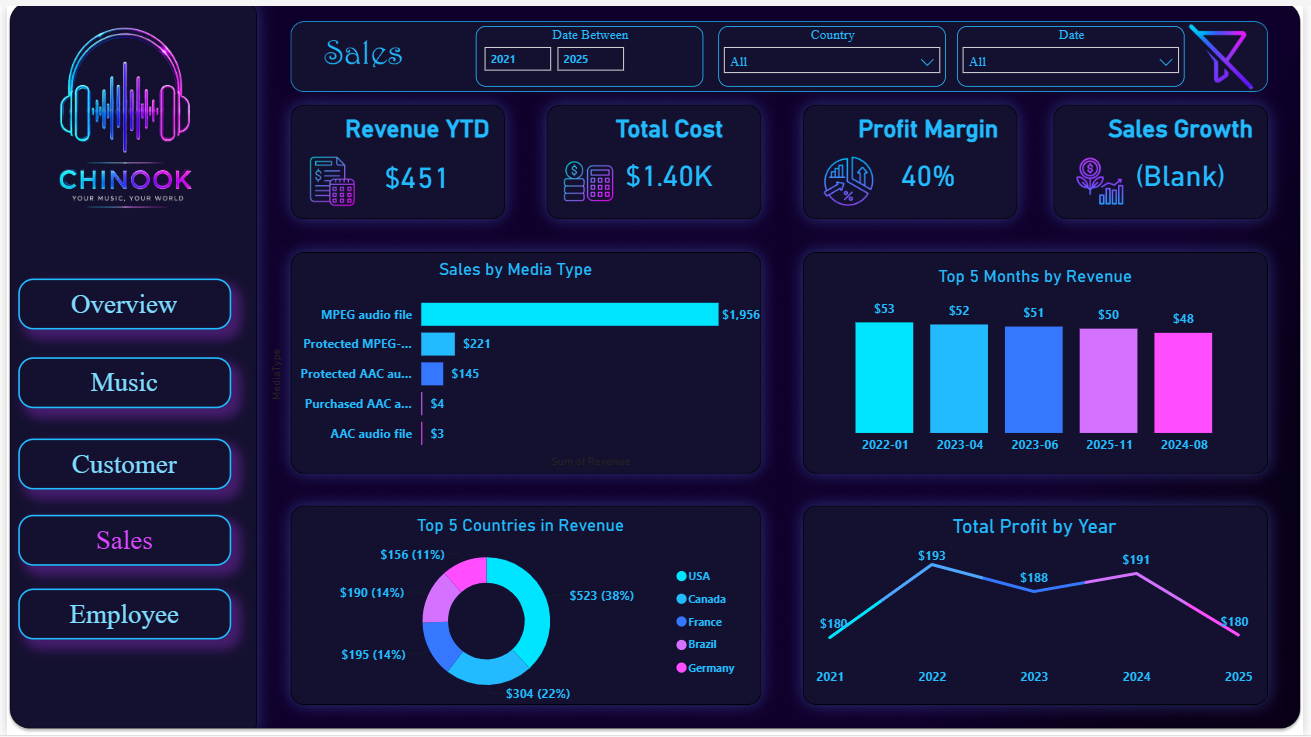

The page's visual inventory and layout, read from the dashboard file:
{"tool":"powerbi","page":{"name":"Sales","canvas":[1280,720],"ordinal":3},"visuals":[{"type":"image","box":[0,0,234.6,227.8],"z":0},{"type":"card","title":"Revenue YTD","fields":{"Values":["Dax.Sales YTD"]},"box":[321.3,107.1,168.3,94.4],"z":1000},{"type":"card","title":"Total Cost","fields":{"Values":["Dax.Total Cost"]},"box":[575.5,107.4,158,90.5],"z":2000},{"type":"card","title":"Profit Margin ","fields":{"Values":["Dax.Profit Margin %"]},"box":[831.4,107.1,158.1,90.5],"z":3000},{"type":"card","title":"Sales Growth","fields":{"Values":["Dax.Sales Growth %"]},"box":[1079.9,107,157.8,90.6],"z":4000},{"type":"image","box":[292.3,148.2,57.6,49.4],"z":5000},{"type":"image","box":[546.1,148.2,57.6,49.4],"z":6000},{"type":"image","box":[802.7,148.2,57.6,49.4],"z":7000},{"type":"image","box":[1051.1,148.2,57.6,49.4],"z":8000},{"type":"donutChart","title":"Top 5 Countries in Revenue","fields":{"Category":["Revenue Rank by Country.BillingCountry"],"Y":["Sum(Revenue Rank by Country.Revenue)"]},"box":[281.8,502.4,451.4,191.3],"z":9000},{"type":"columnChart","title":"Top 5 Months by Revenue","fields":{"Category":["Top 5 Months by Revenue.SalesMonth"],"Y":["Sum(Top 5 Months by Revenue.Revenue)"]},"box":[803.3,256.3,423.4,195.1],"z":10000},{"type":"clusteredBarChart","title":"Sales by Media Type","fields":{"Category":["Sales by Media Type.MediaType"],"Y":["Sum(Sales by Media Type.Revenue)"]},"box":[255,249.9,493.5,211.7],"z":11000},{"type":"actionButton","title":" Overview","box":[11,269,210,50],"z":12000},{"type":"actionButton","title":"Music","box":[11,347.2,210,50],"z":13000},{"type":"actionButton","title":"Customer","box":[11,426.8,210,50],"z":14000},{"type":"actionButton","title":"Sales","box":[11,502.2,210,50],"z":15000},{"type":"actionButton","title":"Employee","box":[11,575,210,50],"z":16000},{"type":"slicer","title":"Date Between","fields":{"Values":["DateDim.Year"]},"box":[462.5,20,225,60],"z":17000},{"type":"slicer","title":"Country","fields":{"Values":["invoice.BillingCountry"]},"box":[702.5,20,225,60],"z":18000},{"type":"slicer","title":"Date","fields":{"Values":["DateDim.Year","DateDim.MonthName"]},"box":[938.8,20,225,60],"z":19000},{"type":"image","box":[1160.6,14.5,77.2,70],"z":20000},{"type":"lineChart","title":"Total Profit by Year","fields":{"Y":["Dax.Total Profit"],"Category":["DateDim.Year"]},"box":[793.8,501.9,441.6,178.6],"z":21000}]}

Visuals, with their boxes in screenshot pixels (x1, y1, x2, y2), scaled from the page's 1280x720 canvas onto the 1311x737 screenshot:
image: pyautogui.locateOnScreen(0, 0, 240, 233)
"Revenue YTD" card: pyautogui.locateOnScreen(329, 110, 501, 206)
"Total Cost" card: pyautogui.locateOnScreen(589, 110, 751, 203)
"Profit Margin " card: pyautogui.locateOnScreen(852, 110, 1013, 202)
"Sales Growth" card: pyautogui.locateOnScreen(1106, 110, 1268, 202)
image: pyautogui.locateOnScreen(299, 152, 358, 202)
image: pyautogui.locateOnScreen(559, 152, 618, 202)
image: pyautogui.locateOnScreen(822, 152, 881, 202)
image: pyautogui.locateOnScreen(1077, 152, 1136, 202)
"Top 5 Countries in Revenue" donutChart: pyautogui.locateOnScreen(289, 514, 751, 710)
"Top 5 Months by Revenue" columnChart: pyautogui.locateOnScreen(823, 262, 1256, 462)
"Sales by Media Type" clusteredBarChart: pyautogui.locateOnScreen(261, 256, 767, 472)
" Overview" actionButton: pyautogui.locateOnScreen(11, 275, 226, 327)
"Music" actionButton: pyautogui.locateOnScreen(11, 355, 226, 407)
"Customer" actionButton: pyautogui.locateOnScreen(11, 437, 226, 488)
"Sales" actionButton: pyautogui.locateOnScreen(11, 514, 226, 565)
"Employee" actionButton: pyautogui.locateOnScreen(11, 589, 226, 640)
"Date Between" slicer: pyautogui.locateOnScreen(474, 20, 704, 82)
"Country" slicer: pyautogui.locateOnScreen(720, 20, 950, 82)
"Date" slicer: pyautogui.locateOnScreen(962, 20, 1192, 82)
image: pyautogui.locateOnScreen(1189, 15, 1268, 86)
"Total Profit by Year" lineChart: pyautogui.locateOnScreen(813, 514, 1265, 697)
